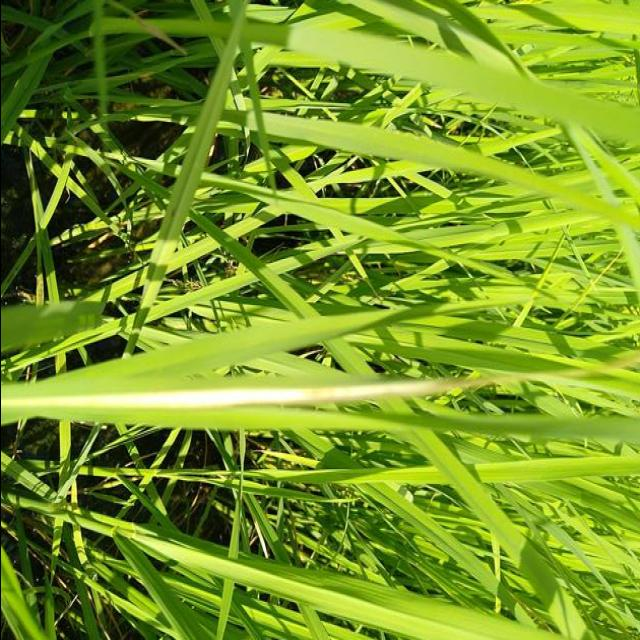Leaf Blight: (0, 353, 640, 408)
